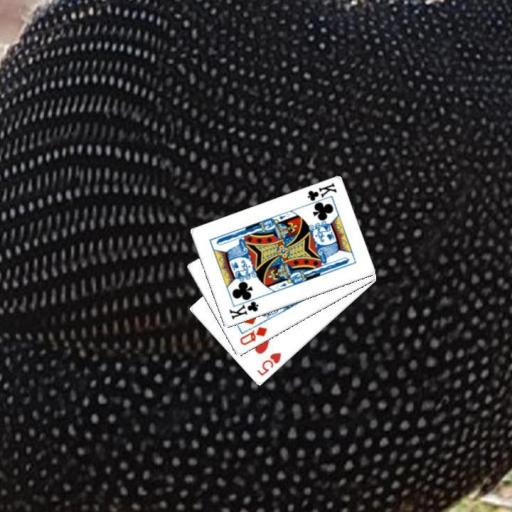5H: (253, 350, 282, 377)
KC: (303, 180, 338, 208), (226, 294, 261, 321)
QD: (236, 324, 269, 347)
